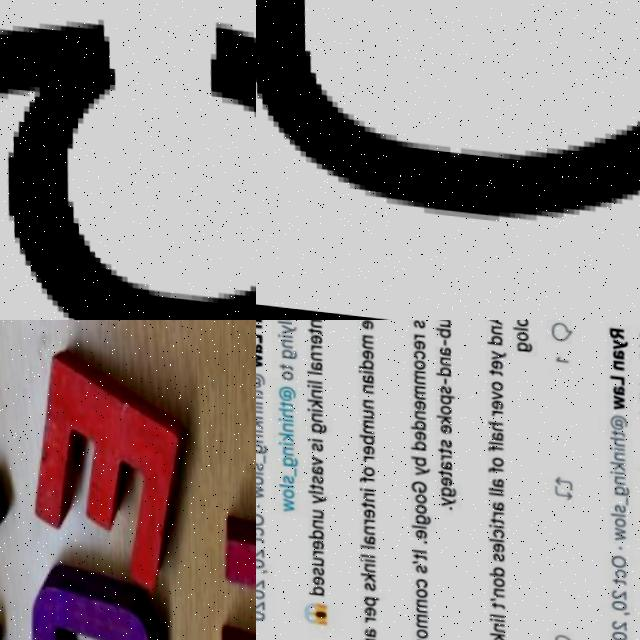0: (602, 627, 619, 639), (602, 598, 619, 607)
1: (551, 354, 566, 361)
2: (601, 617, 619, 629), (602, 586, 620, 596)
3: (635, 327, 640, 338)
5: (0, 0, 256, 320)
D: (256, 0, 640, 248)
E: (2, 342, 189, 583)
G: (6, 567, 169, 640)
U: (185, 501, 256, 640)
